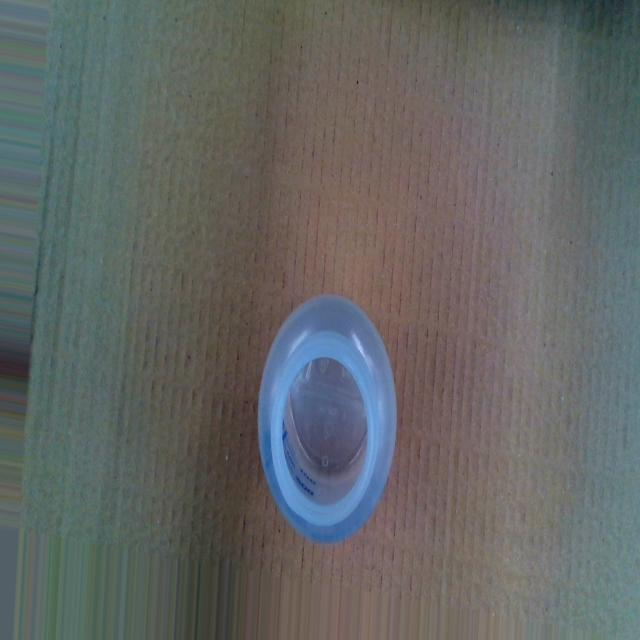bottle: (256, 292, 402, 545)
